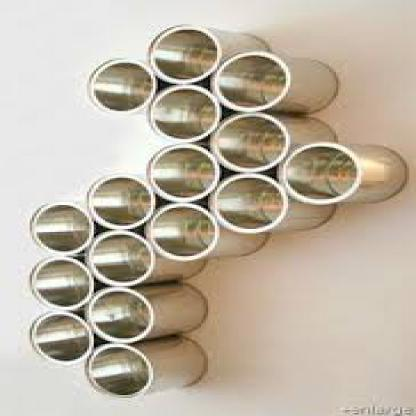Compsot: (272, 139, 407, 205), (206, 50, 338, 115), (80, 332, 210, 397), (203, 172, 336, 232), (206, 111, 336, 172), (146, 24, 270, 85), (142, 202, 270, 259), (80, 286, 208, 341), (80, 229, 203, 284), (142, 142, 233, 204), (82, 172, 169, 229), (144, 86, 231, 140), (84, 57, 167, 112), (28, 200, 108, 254), (28, 256, 105, 311), (30, 310, 105, 365)
